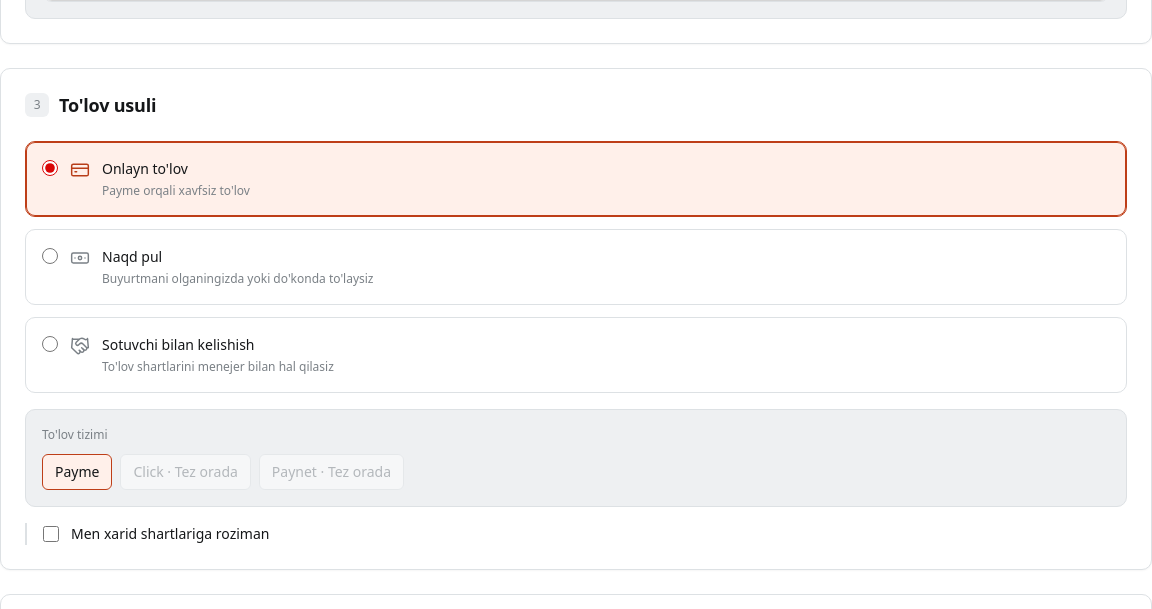
Scenario: CheckoutDetailsForm › explains the seller-agreement option when it is picked
The width and height of the screenshot is (1152, 609).
(page scrolled)
Click the text "Sotuvchi bilan kelishish" at [178, 344], box [102,335,254,354]
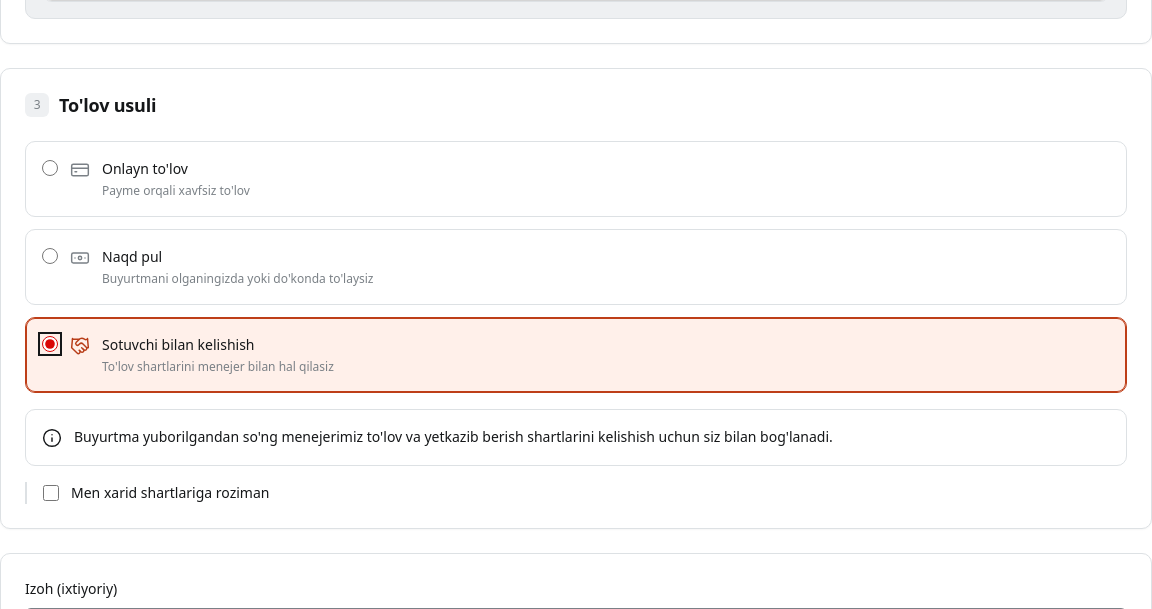
Result: the text "Buyurtma yuborilgandan so'ng menejerimiz to'lov va yetkazib berish shartlarini kelishish uchun siz bilan bog'lanadi." is shown at [74,427,833,446]
